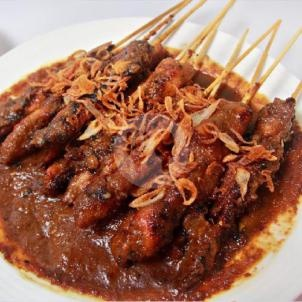sate_madura: (3, 1, 302, 282)
